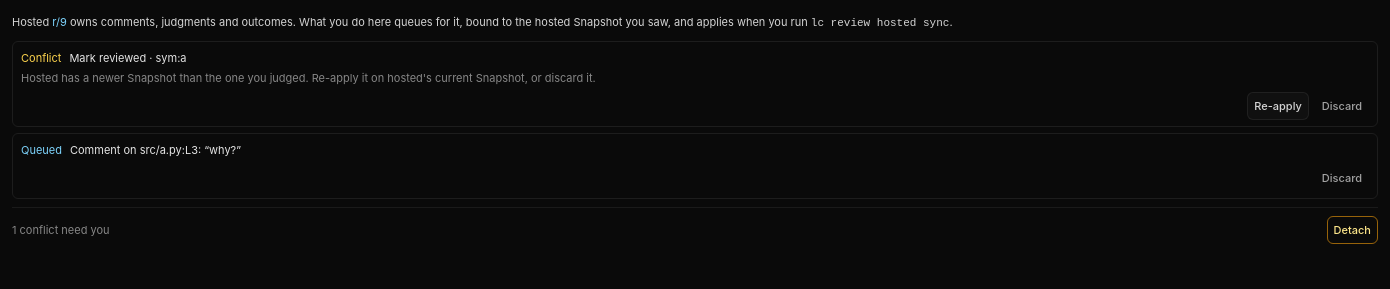
Test case: HostedQueuePanel › discards one action and shows a refusal
Click the 2nd button "Discard" at (1342, 178), box [1315, 164, 1369, 192]
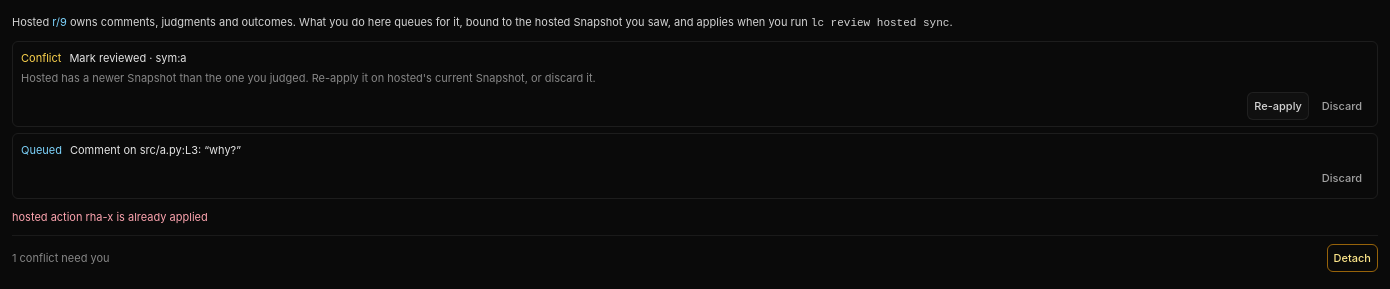
Now the message reads "hosted action rha-x is already applied", box [12, 210, 208, 224]
